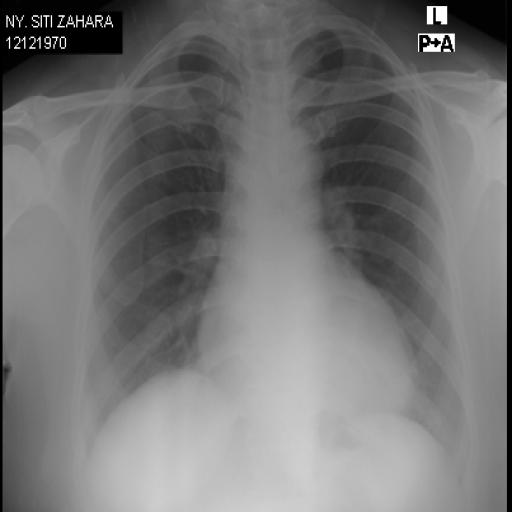kardiomegali: (62, 6, 480, 490)
